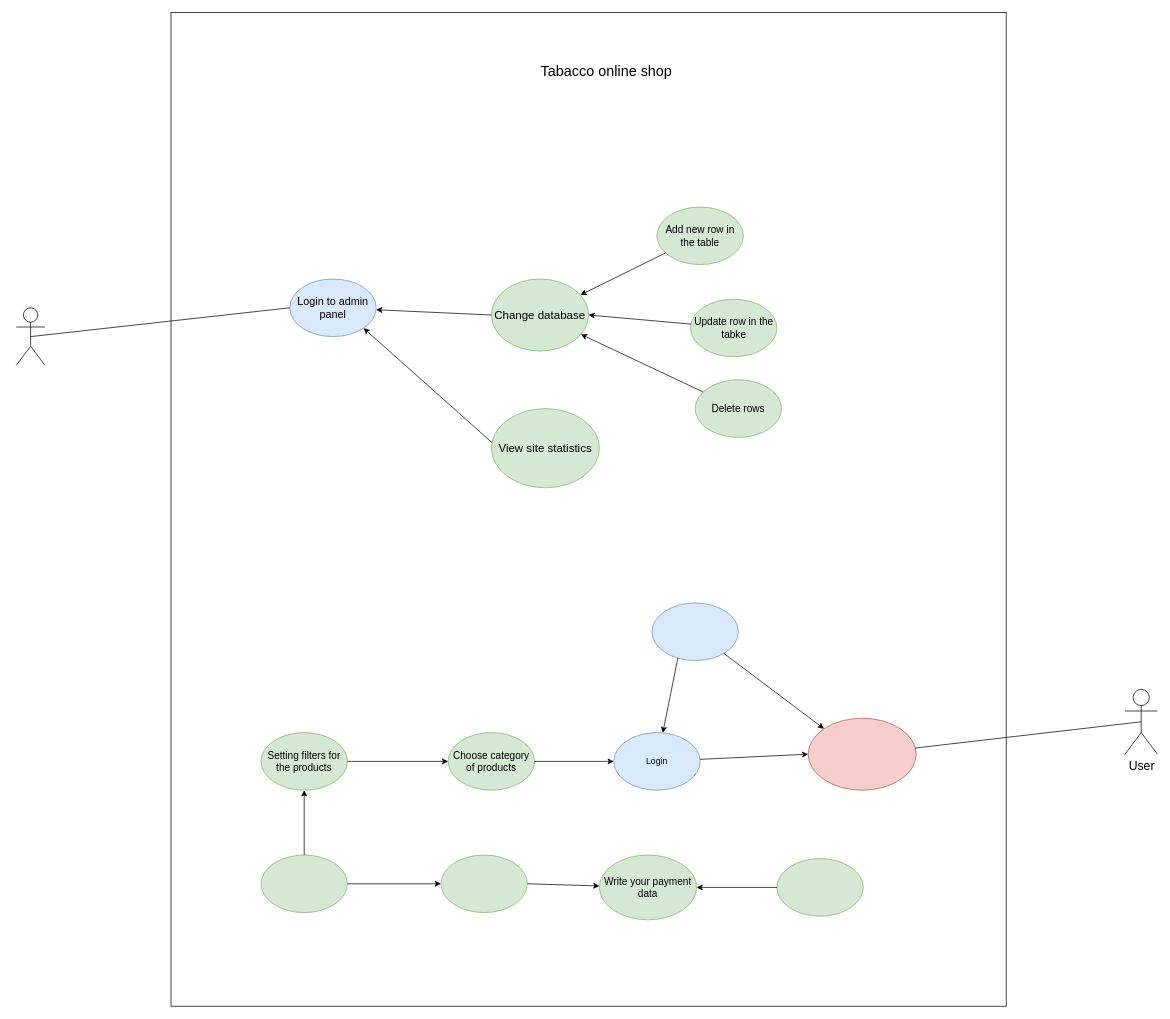
Some shapes in this 1170 by 1019 pixel diagram are drawn without their labels. Here are the shapes that lost their labels. From the top down, the centre of each, then its label:
(30,336): Admin
(694,631): Registre
(861,753): Confirm that you are 18 years old
(303,883): Choose the product
(483,883): Choose the payment method
(819,887): Accept the payment
